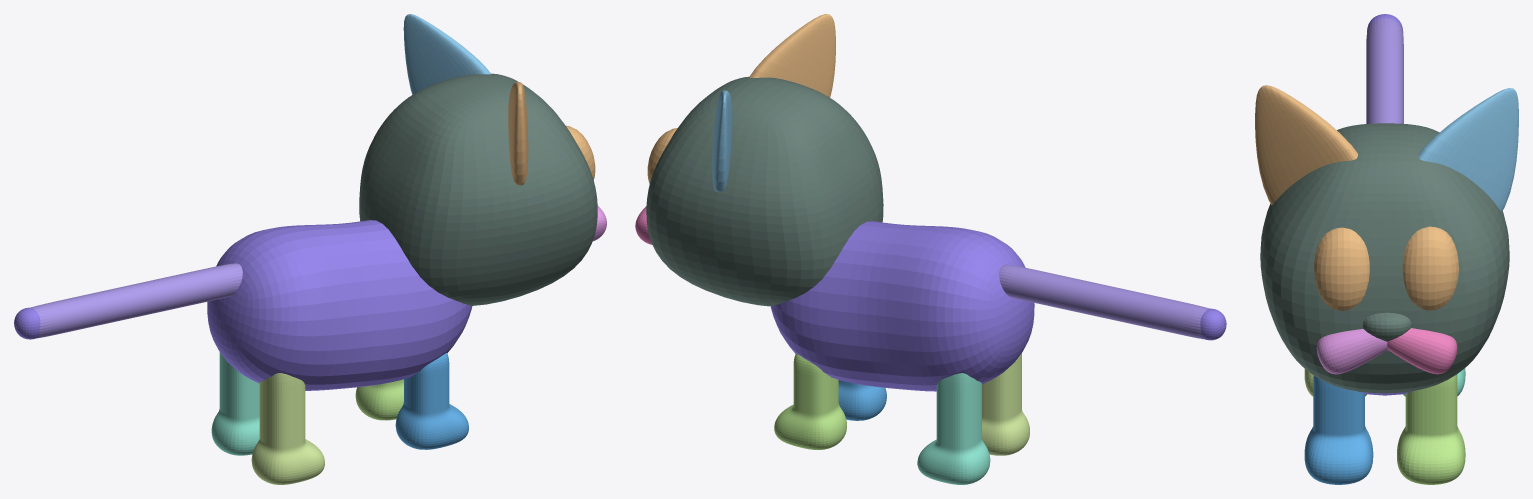
File: gatito.glb
3 renders of one model, left to right at view 1: azimuth 30°, elevation 25°; view 2: azimuth 150°, elevation 25°; view 3: azimuth 270°, elevation 25°, orthographic. The views are drawn at different scales.
Visible parts, largest first — view 1: Cylinder; view 2: Cylinder; view 3: Cylinder.
Boxes of the visible parts, x1,y1,x2,y2 form: Cylinder: [14, 14, 606, 484]; Cylinder: [635, 14, 1226, 484]; Cylinder: [1255, 14, 1518, 484].
Bounding box in the file's own units: 6.79 × 4.19 × 2.38.
